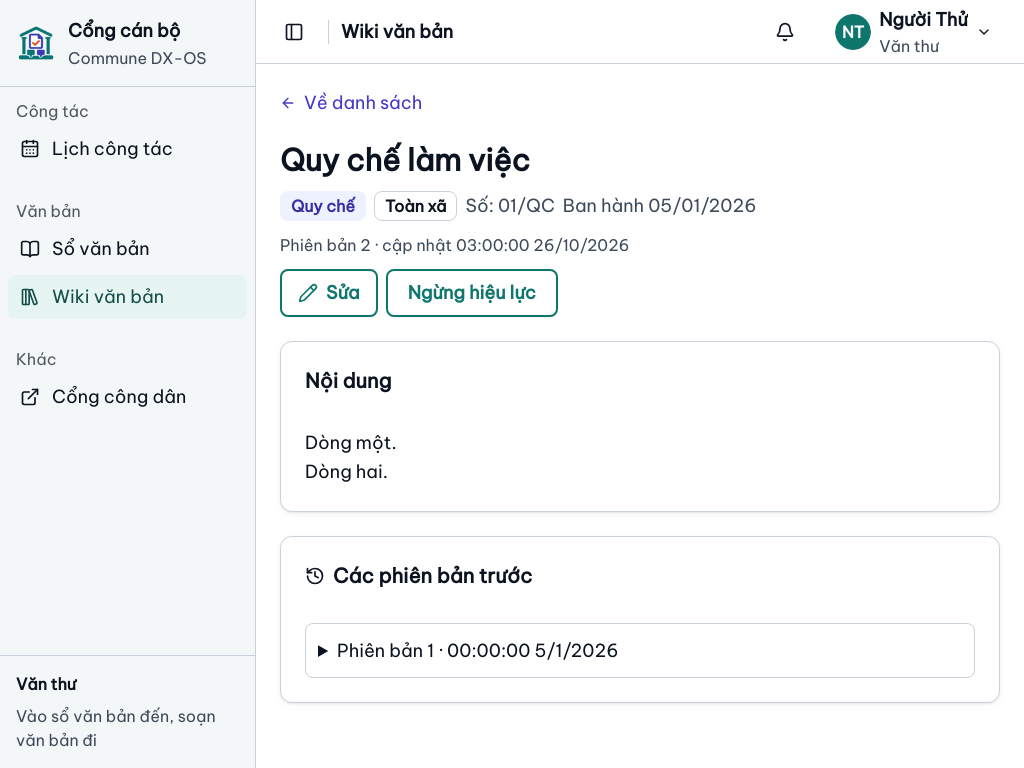
Test: wiki văn bản (#95) › văn thư thấy nút thêm; chi tiết có nội dung, phiên bản cũ, nút ngừng hiệu lực
The width and height of the screenshot is (1024, 768).
Expected: the heading "Quy chế làm việc" is shown, [280,141,530,179]
Expected: the text "Dòng một. Dòng hai." is shown, [305,431,396,484]
Click the button "Ngừng hiệu lực" at (472, 293), box [386,269,558,317]
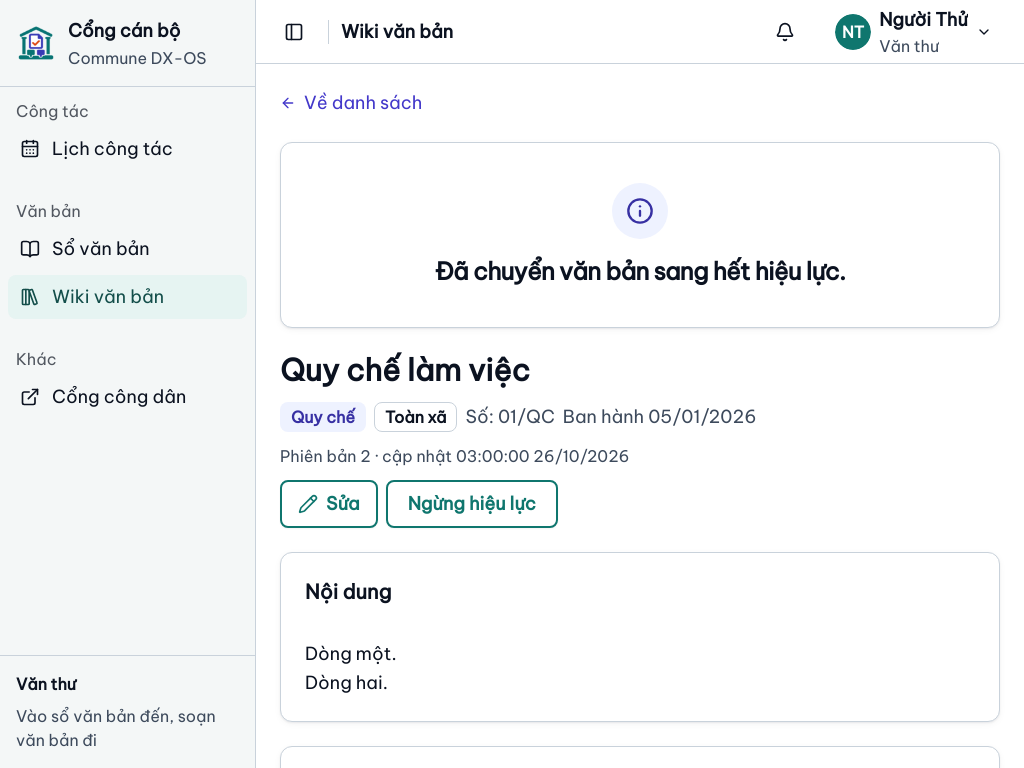
Now the heading "Đã chuyển văn bản sang hết hiệu lực." is shown, box [435,255,845,287]
